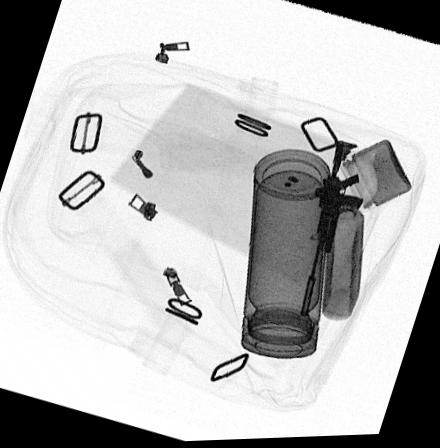Gun: (299, 142, 363, 321)
